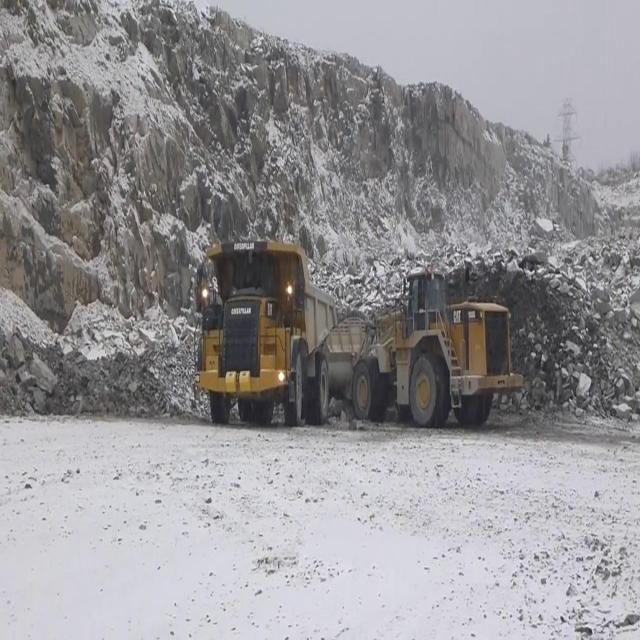Dump Truck: (194, 240, 336, 425)
Loader: (327, 270, 523, 431)
